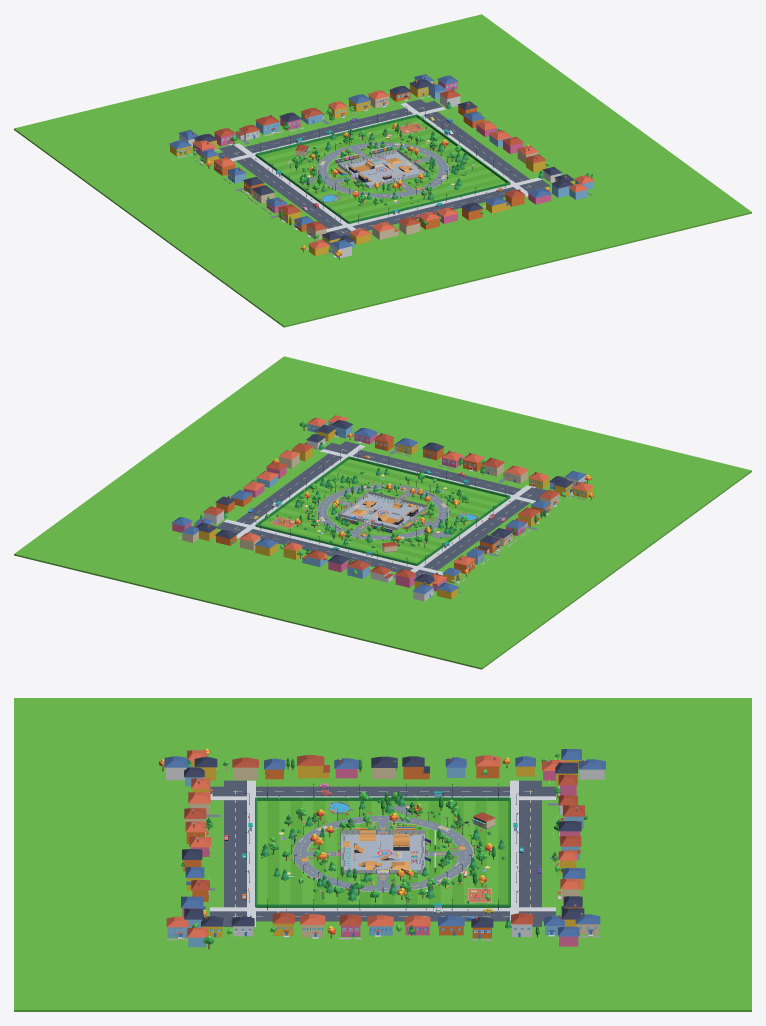
File: community_park.glb
3 views of the same model, one above another, from view 1: azimuth 30°, elevation 25°; view 2: azimuth 150°, elevation 25°; view 3: azimuth 270°, elevation 25° (orthographic). The views are drawn at different scales.
Parts seen in each view (by area): view 1: Grass_Ground-col, Road_01, Road_04, Path_Ring-col, Road_03, Road_02, Concrete_Plaza-col, Sidewalk_02, Stripe_02, Sidewalk_04, Stripe_12, Stripe_03; view 2: Grass_Ground-col, Road_02, Road_04, Road_03, Path_Ring-col, Road_01, Concrete_Plaza-col, Sidewalk_01, Stripe_02, Sidewalk_04, Stripe_03, Stripe_11 (+1 smaller); view 3: Grass_Ground-col, Road_04, Road_01, Road_02, Path_Ring-col, Road_03, Concrete_Plaza-col, Sidewalk_03, Stripe_02, Sidewalk_02, Stripe_12, Sidewalk_01 (+7 smaller).
Part boxes in pixels (x1=…): Grass_Ground-col: x1=14, y1=14, x2=751, y2=327; Road_01: x1=218, y1=100, x2=442, y2=158; Road_04: x1=219, y1=145, x2=350, y2=236; Path_Ring-col: x1=317, y1=142, x2=448, y2=197; Road_03: x1=406, y1=99, x2=541, y2=191; Road_02: x1=326, y1=180, x2=550, y2=236; Concrete_Plaza-col: x1=341, y1=152, x2=424, y2=185; Sidewalk_02: x1=326, y1=177, x2=541, y2=232; Stripe_02: x1=343, y1=178, x2=504, y2=219; Sidewalk_04: x1=233, y1=143, x2=356, y2=231; Stripe_12: x1=259, y1=117, x2=419, y2=158; Stripe_03: x1=335, y1=172, x2=495, y2=213; Grass_Ground-col: x1=14, y1=356, x2=751, y2=669; Road_02: x1=324, y1=442, x2=541, y2=500; Road_04: x1=415, y1=487, x2=546, y2=578; Road_03: x1=224, y1=441, x2=359, y2=533; Path_Ring-col: x1=317, y1=484, x2=448, y2=539; Road_01: x1=216, y1=522, x2=442, y2=577; Concrete_Plaza-col: x1=341, y1=494, x2=424, y2=527; Sidewalk_01: x1=224, y1=519, x2=443, y2=575; Stripe_02: x1=342, y1=462, x2=502, y2=503; Sidewalk_04: x1=410, y1=485, x2=531, y2=572; Stripe_03: x1=333, y1=468, x2=494, y2=509; Stripe_11: x1=266, y1=517, x2=426, y2=558; Grass_Ground-col: x1=14, y1=698, x2=751, y2=1011; Road_04: x1=210, y1=786, x2=555, y2=796; Road_01: x1=519, y1=780, x2=541, y2=926; Road_02: x1=224, y1=780, x2=246, y2=926; Path_Ring-col: x1=292, y1=815, x2=473, y2=891; Road_03: x1=210, y1=911, x2=555, y2=921; Concrete_Plaza-col: x1=341, y1=834, x2=424, y2=873; Sidewalk_03: x1=210, y1=907, x2=555, y2=911; Stripe_02: x1=267, y1=801, x2=279, y2=905; Sidewalk_02: x1=247, y1=780, x2=255, y2=926; Stripe_12: x1=498, y1=801, x2=508, y2=904; Sidewalk_01: x1=510, y1=780, x2=518, y2=925.
Size of what is drawn, in the model's own units: 320 by 13.42 by 320.
